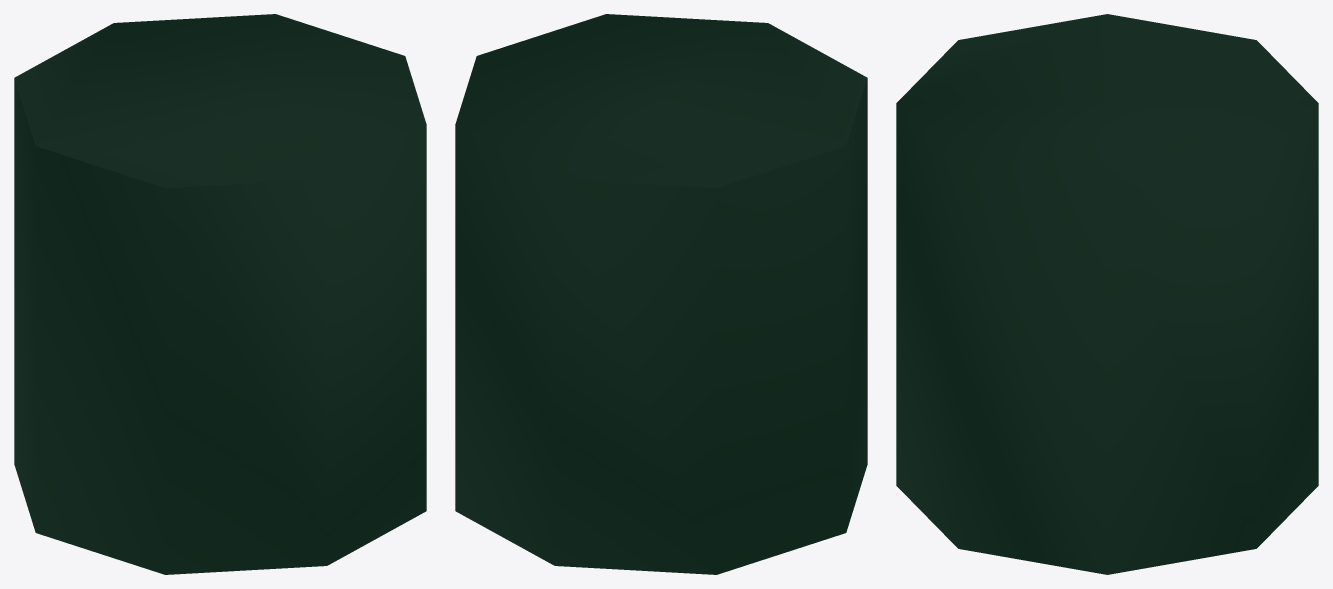
The model's file is underWater.glb.
3 views of the same model, side by side, from view 1: azimuth 30°, elevation 25°; view 2: azimuth 150°, elevation 25°; view 3: azimuth 270°, elevation 25° (orthographic).
Parts seen in each view (by area): view 1: underWater; view 2: underWater; view 3: underWater.
Boxes of the visible parts, left/top/right/bottom form: underWater: left=14, top=14, right=426, bottom=574; underWater: left=455, top=14, right=867, bottom=574; underWater: left=896, top=14, right=1318, bottom=574.
Size of the model in its own units: 15.64 by 15.64 by 15.64.
